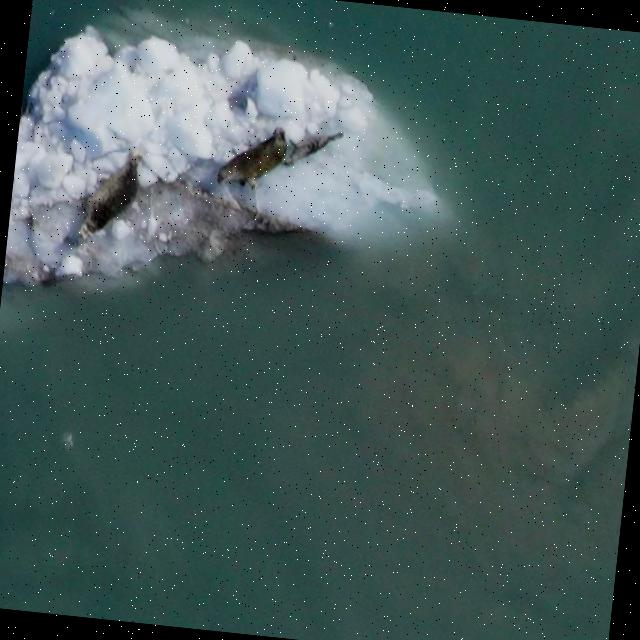seal: (62, 152, 160, 245), (211, 118, 302, 207), (271, 111, 345, 171)
